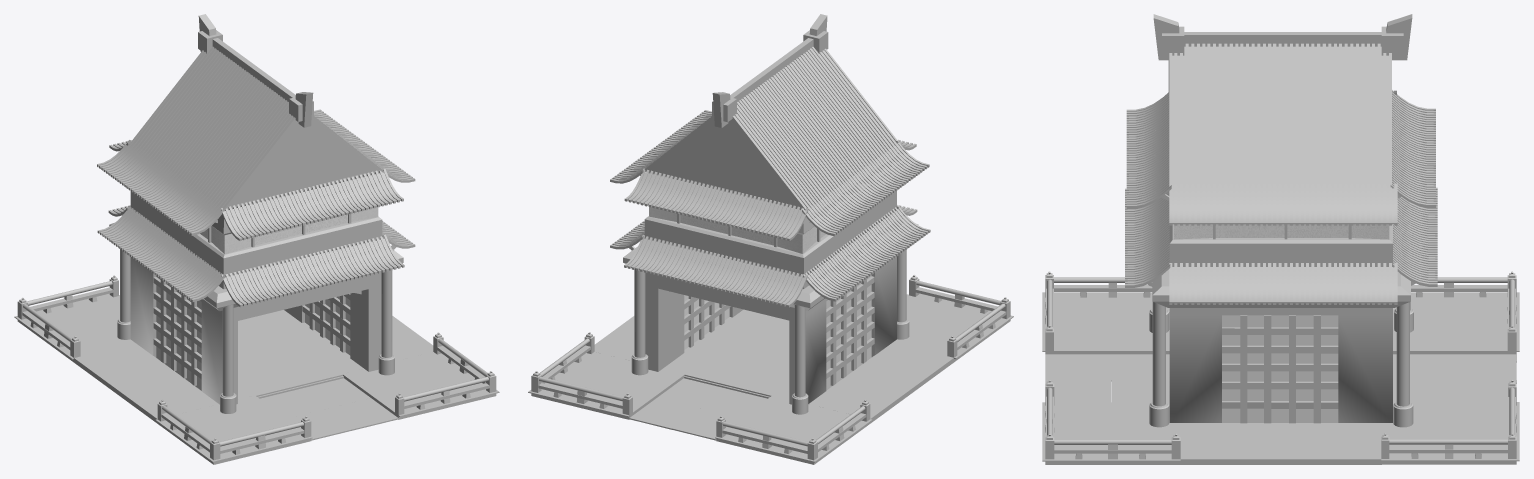
Rendered from Separated model.fbx.
The picture shows the model from 3 angles, left to right: view 1: azimuth 30°, elevation 25°; view 2: azimuth 150°, elevation 25°; view 3: azimuth 270°, elevation 25°; orthographic projection. The views are drawn at different scales.
Visible parts, largest first — view 1: Roof18, Main_House_and_Roof1, Floor48, Balcony10, Balcony9, Roof22, Roof17, Roof_Wall7, Roof_Wall8, Balcony12, Roof24, Floor60 (+13 smaller); view 2: Roof18, Main_House_and_Roof1, Floor48, Balcony11, Balcony12, Roof_Wall9, Roof23, Roof21, Roof_Wall8, Balcony9, Roof24, Floor60 (+13 smaller); view 3: Roof19, Main_House_and_Roof1, Roof_Wall10, Roof20, Balcony9, Balcony10, Balcony12, Balcony11, Roof22, Roof23, Roof17, Roof21 (+28 smaller).
Boxes of the visible parts, left/top/right/bottom form: Roof18: left=97, top=46, right=295, bottom=235; Main_House_and_Roof1: left=130, top=173, right=382, bottom=404; Floor48: left=238, top=310, right=363, bottom=399; Balcony10: left=343, top=332, right=499, bottom=419; Balcony9: left=155, top=395, right=312, bottom=464; Roof22: left=221, top=168, right=403, bottom=240; Roof17: left=221, top=234, right=404, bottom=307; Roof_Wall7: left=227, top=119, right=379, bottom=209; Roof_Wall8: left=131, top=48, right=293, bottom=210; Balcony12: left=14, top=275, right=134, bottom=362; Roof24: left=97, top=206, right=225, bottom=302; Floor60: left=95, top=358, right=187, bottom=400; Roof18: left=732, top=47, right=929, bottom=236; Main_House_and_Roof1: left=644, top=173, right=896, bottom=404; Floor48: left=663, top=309, right=789, bottom=398; Balcony11: left=528, top=332, right=684, bottom=419; Balcony12: left=715, top=395, right=872, bottom=464; Roof_Wall9: left=645, top=118, right=801, bottom=209; Roof23: left=624, top=168, right=808, bottom=241; Roof21: left=624, top=235, right=807, bottom=307; Roof_Wall8: left=734, top=48, right=897, bottom=207; Balcony9: left=892, top=275, right=1013, bottom=362; Roof24: left=803, top=205, right=930, bottom=301; Floor60: left=829, top=365, right=922, bottom=407; Roof19: left=1169, top=43, right=1397, bottom=225; Main_House_and_Roof1: left=1169, top=224, right=1392, bottom=422; Roof_Wall10: left=1172, top=46, right=1388, bottom=187; Roof20: left=1169, top=263, right=1397, bottom=304; Balcony9: left=1042, top=271, right=1169, bottom=354; Balcony10: left=1042, top=380, right=1180, bottom=464; Balcony12: left=1393, top=271, right=1519, bottom=354; Balcony11: left=1381, top=379, right=1519, bottom=464; Roof22: left=1126, top=92, right=1171, bottom=208; Roof23: left=1390, top=90, right=1435, bottom=207; Roof17: left=1125, top=188, right=1170, bottom=287; Roof21: left=1392, top=187, right=1437, bottom=286.
Bounding box in the file's own units: 18.08 × 18.33 × 21.67.
